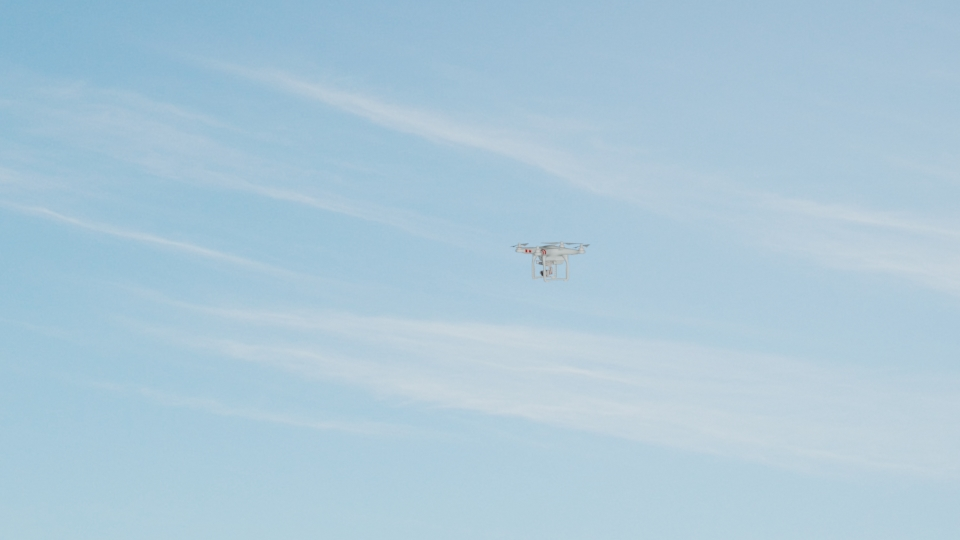drone: (512, 238, 588, 281)
